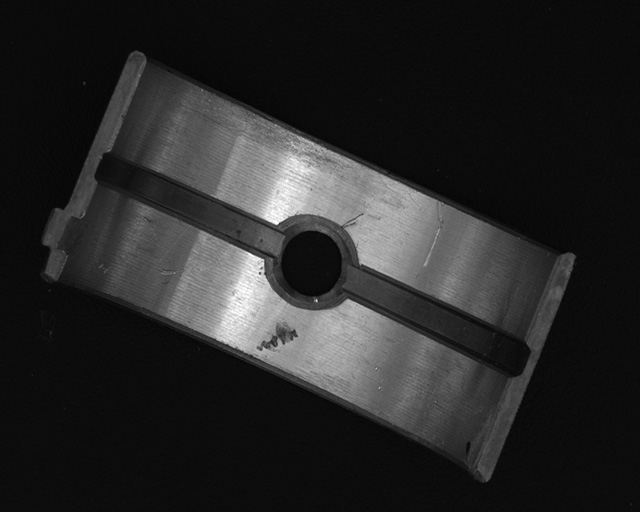blot: (464, 440, 471, 458)
bruise: (255, 321, 298, 351), (158, 267, 183, 277)
gap: (346, 266, 527, 373), (95, 154, 280, 253)
hole: (271, 217, 356, 310)
nick: (413, 197, 443, 278), (340, 212, 364, 229)
scratch: (195, 86, 371, 182)
